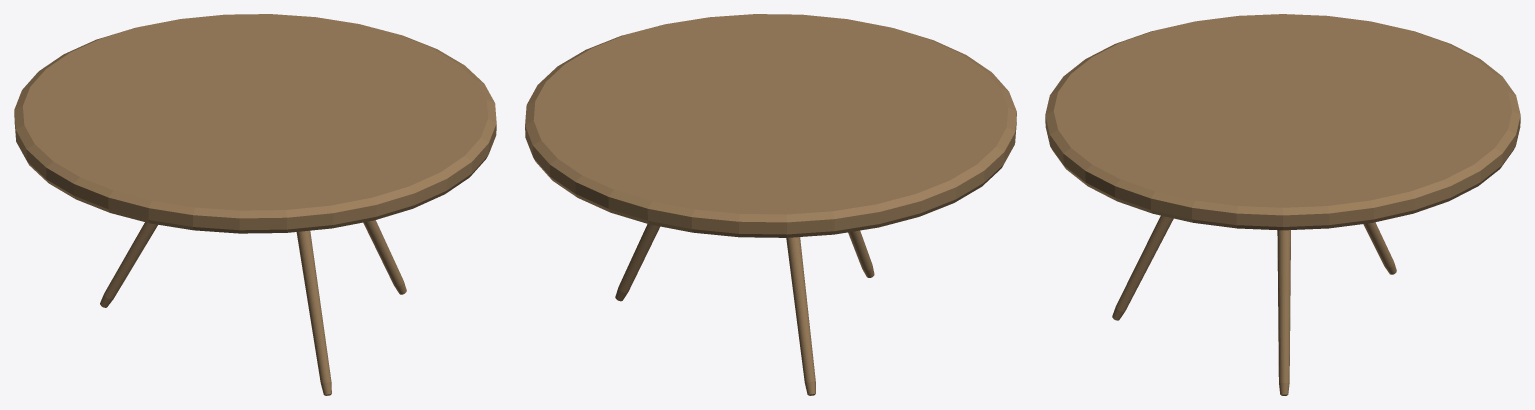
The model's file is TableCircular.fbx.
3 renders of one model, left to right at view 1: azimuth 30°, elevation 25°; view 2: azimuth 150°, elevation 25°; view 3: azimuth 270°, elevation 25°, orthographic. The views are drawn at different scales.
Parts seen in each view (by area): view 1: TableCircular; view 2: TableCircular; view 3: TableCircular.
Boxes of the visible parts, x1,y1,x2,y2 form: TableCircular: (14,14,496,395); TableCircular: (525,14,1016,395); TableCircular: (1045,14,1520,395).
Size of the model in its own units: 386 by 193 by 386.
